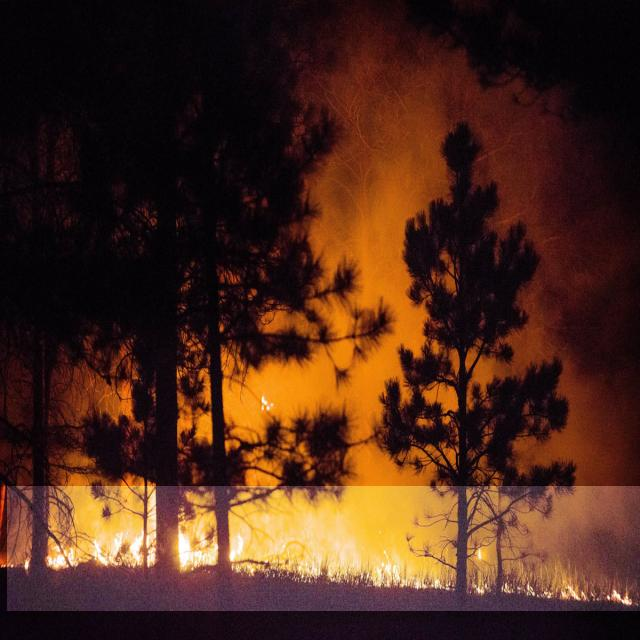Fire: (7, 486, 640, 611)
